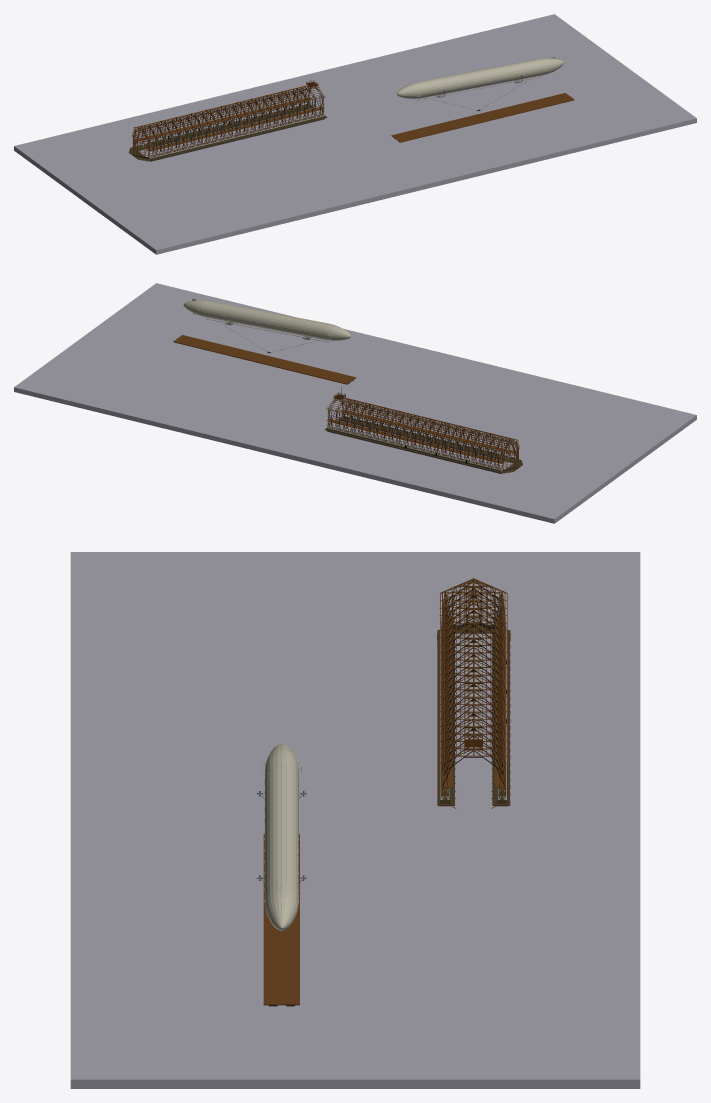
3 renders of one model, top to bottom at view 1: azimuth 30°, elevation 25°; view 2: azimuth 150°, elevation 25°; view 3: azimuth 270°, elevation 25°, orthographic. The views are drawn at different scales.
Visible parts, largest first — view 1: Wasser, Hallen-Struktur, Rumpf, Ponton_top, Kreuz, Streben, Panele unten, Ponton_Unterbau, Fenster; view 2: Wasser, Hallen-Struktur, Rumpf, Ponton_top, Kreuz, Streben, Panele unten, Ponton_Unterbau, Fenster; view 3: Wasser, Hallen-Struktur, Rumpf, Ponton_top, Streben.
Boxes of the visible parts, x1,y1,x2,y2 form: Wasser: (14, 14, 696, 254); Hallen-Struktur: (128, 85, 327, 161); Rumpf: (396, 58, 564, 98); Ponton_top: (391, 93, 574, 142); Kreuz: (134, 88, 323, 157); Streben: (135, 86, 323, 150); Panele unten: (136, 103, 325, 159); Ponton_Unterbau: (137, 108, 324, 161); Fenster: (143, 92, 314, 147); Wasser: (14, 283, 696, 523); Hallen-Struktur: (324, 396, 522, 473); Rumpf: (183, 300, 351, 340); Ponton_top: (173, 335, 356, 384); Kreuz: (328, 400, 516, 469); Streben: (328, 399, 516, 462); Panele unten: (326, 416, 516, 471); Ponton_Unterbau: (327, 420, 513, 473); Fenster: (336, 402, 508, 459); Wasser: (70, 552, 640, 1088); Hallen-Struktur: (437, 578, 510, 808); Rumpf: (265, 744, 298, 930); Ponton_top: (263, 834, 299, 1006); Streben: (442, 580, 504, 786).
Bounding box in the file's own units: 413 × 41.44 × 188.
